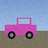vehicle: (5, 18, 36, 39)
